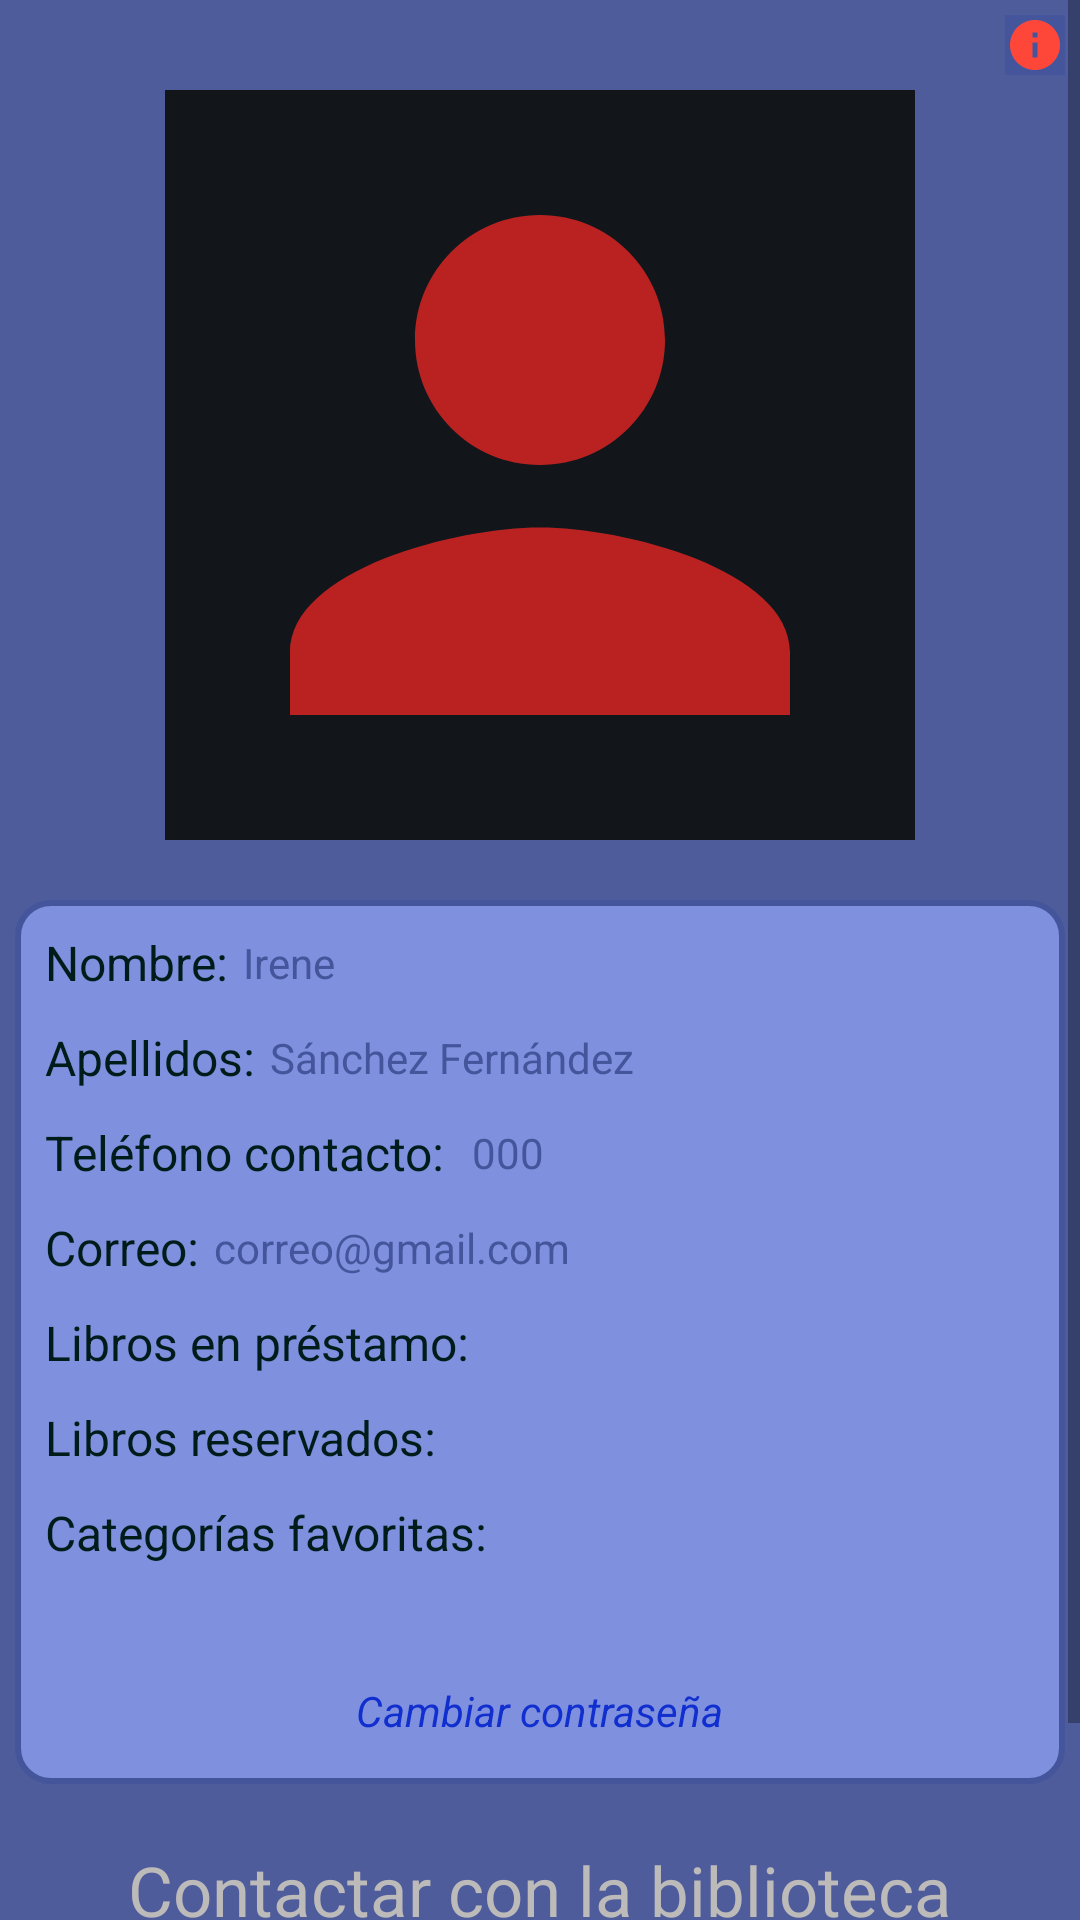

Icons on this 1080×1920 Android screen, each with the point to tap as [x,y]:
info: [1035,45]
